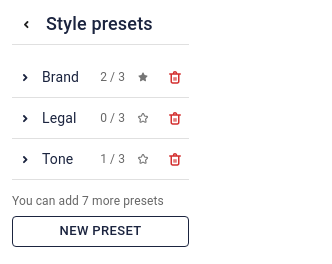
Test case: deleting from the list (contract: two presses — the first arms it, renaming the button "Delete <name> — tap again, removes <n> language" and replacing that row' › leaves the other rows' counters alone
Click the button named "Delete Tone" at (175, 159), box top-left (161, 145), bottom-right (189, 173)
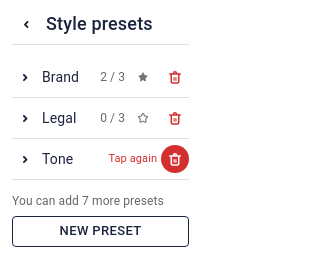
Check: the text "2 / 3" is shown, box top-left (100, 68), bottom-right (125, 86)
Check: the text "Tap again" is shown, box top-left (108, 152), bottom-right (157, 165)
